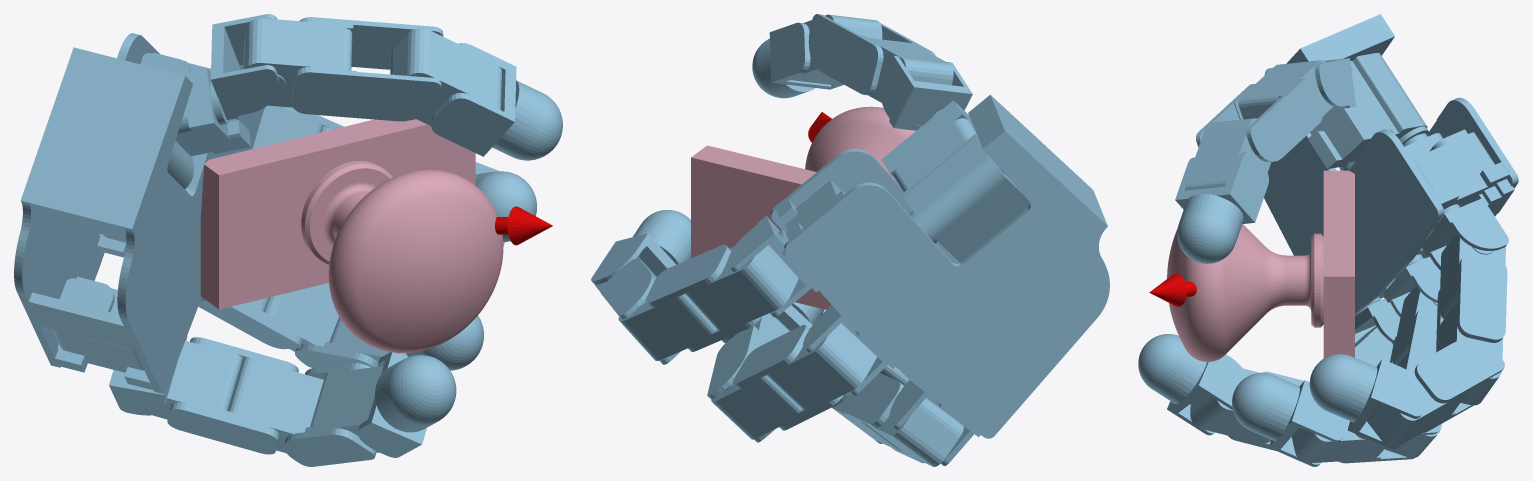
The picture shows the model from 3 angles, left to right: view 1: azimuth 30°, elevation 25°; view 2: azimuth 150°, elevation 25°; view 3: azimuth 270°, elevation 25°; orthographic projection. The views are drawn at different scales.
Parts seen in each view (by area): view 1: world, door_knob.stl; view 2: world, door_knob.stl; view 3: world, door_knob.stl.
Part boxes in pixels (x1,y1,x2,y2): world: (14,14,562,466); door_knob.stl: (200,119,503,352); world: (591,14,1109,466); door_knob.stl: (691,106,915,309); world: (1138,14,1518,466); door_knob.stl: (1167,170,1354,361).
Size of the model in its own units: 0.2077 by 0.1679 by 0.1517.
